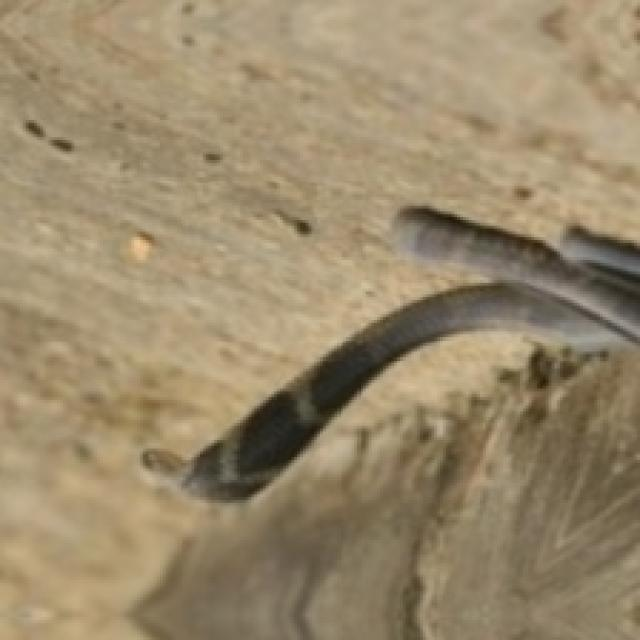king cobra: (143, 206, 637, 500)
